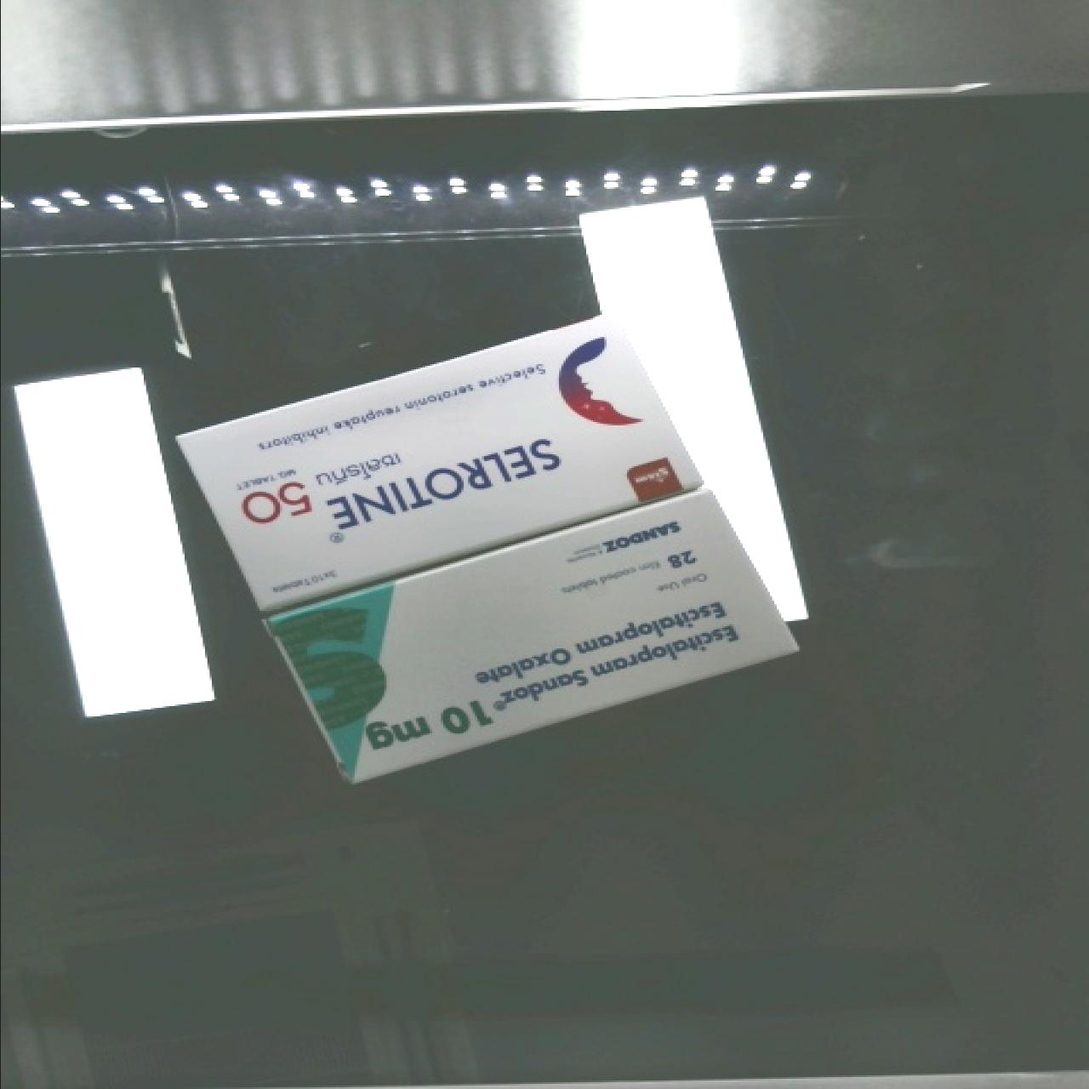medicine_label_obb: (333, 572, 772, 776), (224, 399, 589, 583)
